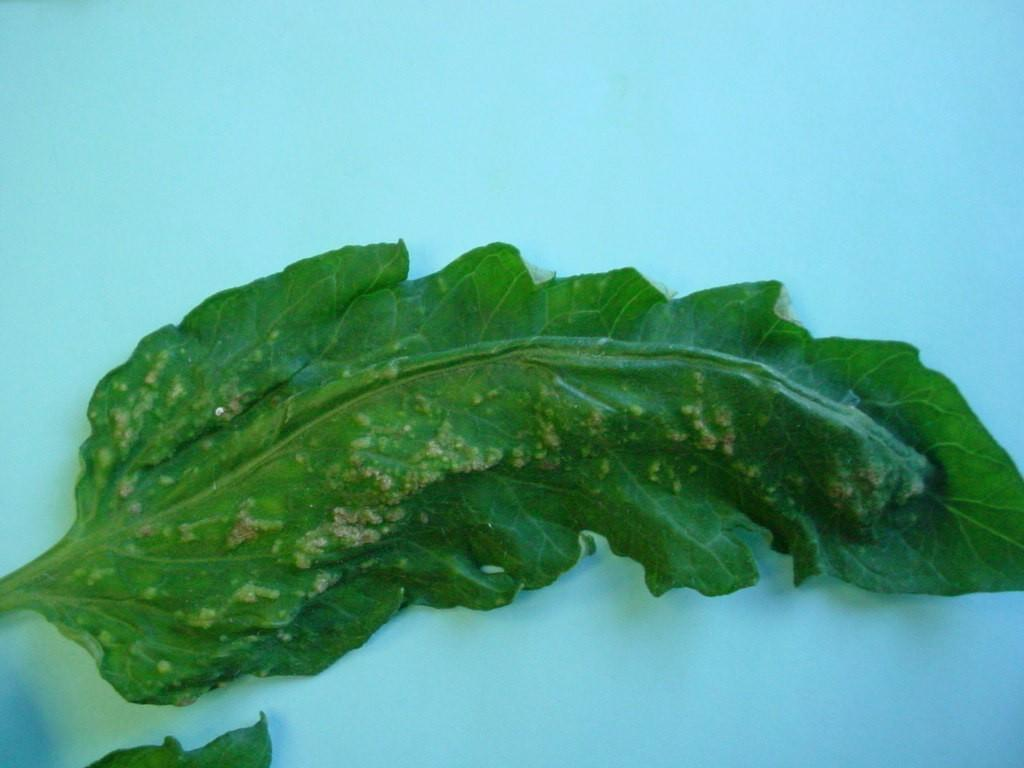Tomato mold leaf: (1, 188, 1017, 724)
